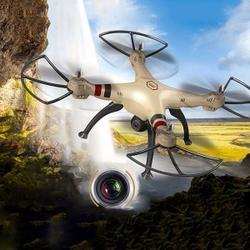drone: (20, 29, 250, 180)
